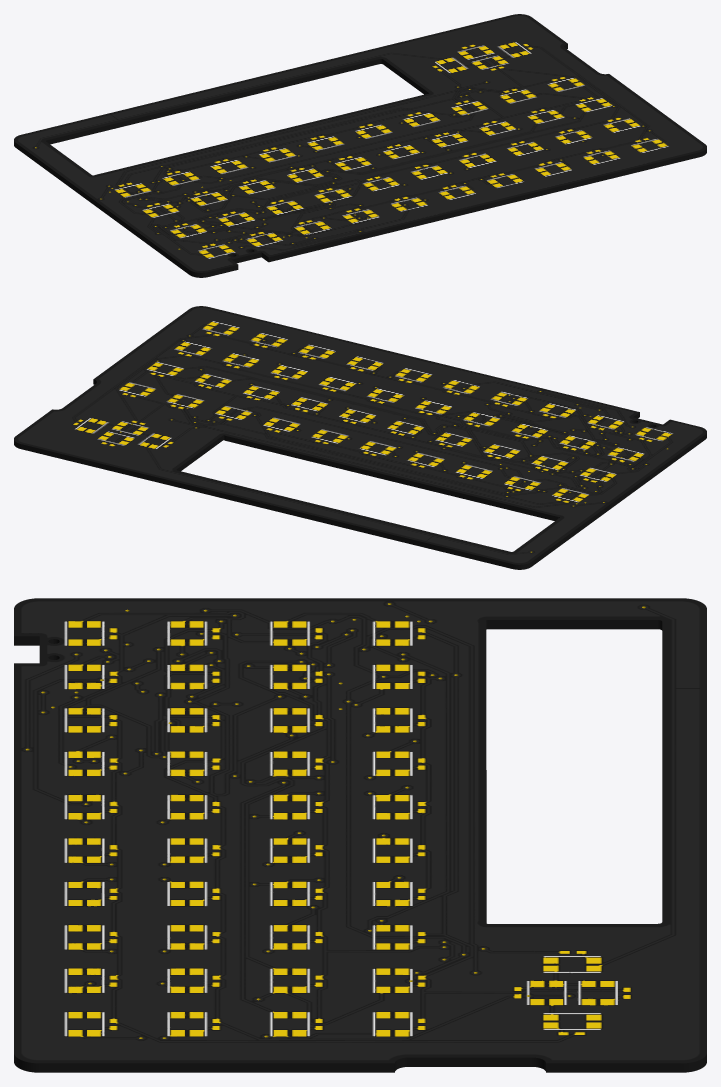
File: pcbModel.obj
3 views of the same model, one above another, from view 1: azimuth 30°, elevation 25°; view 2: azimuth 150°, elevation 25°; view 3: azimuth 270°, elevation 25° (orthographic). The views are drawn at different scales.
Parts seen in each view (by area): view 1: Mesh1 pcbgroup Model; view 2: Mesh1 pcbgroup Model; view 3: Mesh1 pcbgroup Model.
Boxes of the visible parts, x1,y1,x2,y2 form: Mesh1 pcbgroup Model: (14, 14, 706, 277); Mesh1 pcbgroup Model: (14, 306, 706, 569); Mesh1 pcbgroup Model: (14, 598, 706, 1072).
Bounding box in the file's own units: 85.72 × 0.8 × 53.97.
5 materials, 2 textured.
